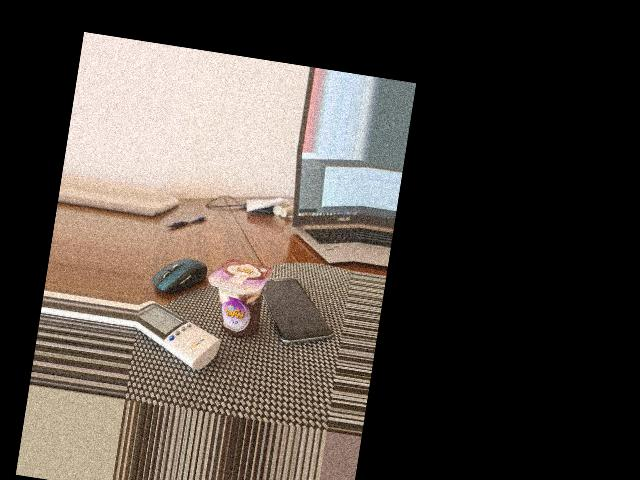milky: (207, 256, 275, 340)
